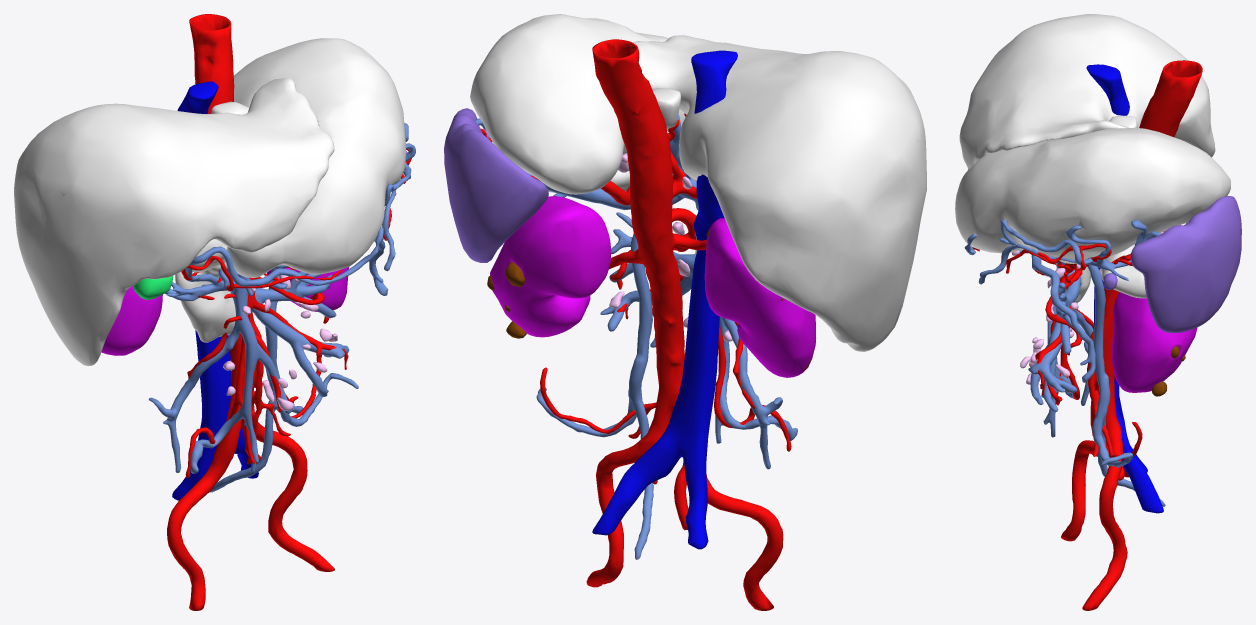
Rendered from 谢子东untitled.gltf.
3 views of the same model, side by side, from view 1: azimuth 30°, elevation 25°; view 2: azimuth 150°, elevation 25°; view 3: azimuth 270°, elevation 25° (orthographic). The views are drawn at different scales.
Visible parts, largest first — view 1: 肝脏, 胃肠, 动脉血管, 门静脉血管, 下腔静脉, 肾脏, 胰腺, 淋巴结可能, 胆囊; view 2: 肝脏, 动脉血管, 胃肠, 肾脏, 下腔静脉, 门静脉血管, 脾脏, 淋巴结可能, 肾囊肿; view 3: 胃肠, 肝脏, 动脉血管, 脾脏, 门静脉血管, 肾脏, 下腔静脉, 胰腺, 淋巴结可能.
Part boxes in pixels (bbox=[...]): 肝脏: bbox=[14, 78, 334, 366]; 胃肠: bbox=[192, 38, 406, 277]; 动脉血管: bbox=[167, 14, 411, 610]; 门静脉血管: bbox=[148, 123, 415, 492]; 下腔静脉: bbox=[172, 81, 258, 500]; 肾脏: bbox=[101, 267, 349, 355]; 胰腺: bbox=[175, 263, 235, 342]; 淋巴结可能: bbox=[223, 275, 337, 410]; 胆囊: bbox=[133, 276, 173, 299]; 肝脏: bbox=[632, 35, 926, 351]; 动脉血管: bbox=[480, 39, 791, 610]; 胃肠: bbox=[470, 14, 685, 194]; 肾脏: bbox=[490, 196, 815, 377]; 下腔静脉: bbox=[592, 50, 737, 549]; 门静脉血管: bbox=[475, 115, 797, 559]; 脾脏: bbox=[444, 108, 548, 262]; 淋巴结可能: bbox=[609, 131, 732, 341]; 肾囊肿: bbox=[487, 229, 811, 370]; 胃肠: bbox=[955, 115, 1230, 263]; 肝脏: bbox=[959, 14, 1215, 169]; 动脉血管: bbox=[972, 60, 1202, 610]; 脾脏: bbox=[1130, 195, 1241, 332]; 门静脉血管: bbox=[964, 219, 1187, 506]; 肾脏: bbox=[1112, 225, 1197, 392]; 下腔静脉: bbox=[1086, 64, 1163, 513]; 胰腺: bbox=[1056, 244, 1146, 302]; 淋巴结可能: bbox=[1011, 232, 1163, 384].
Size of the model in its own units: 0.286 by 0.3803 by 0.1948.
